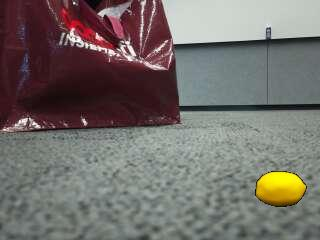lemon: (256, 172, 305, 206)
